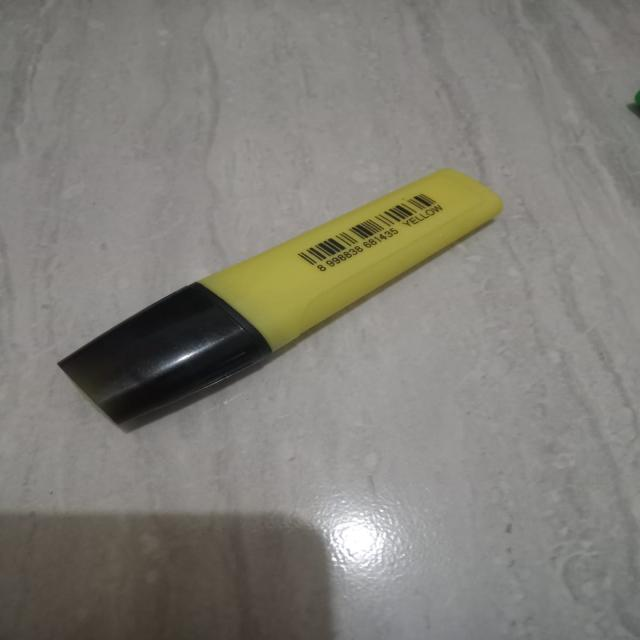highlighter: (38, 144, 542, 458)
